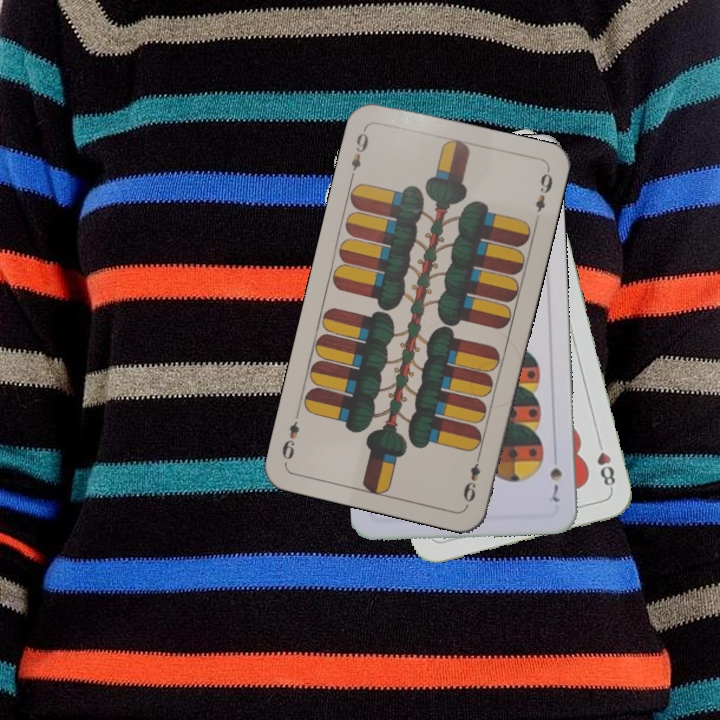E9: (459, 449, 484, 508), (346, 124, 371, 182)
H8: (593, 434, 618, 493)
S7: (545, 463, 565, 505)
